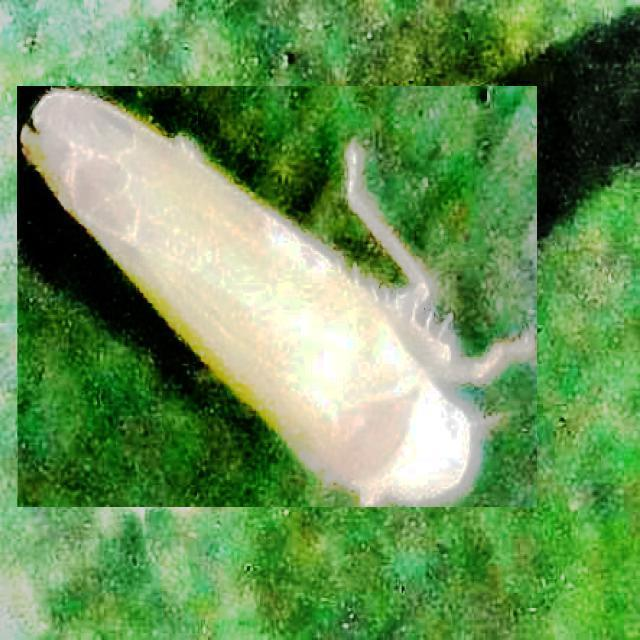green-leafhopper: (18, 86, 537, 507)
